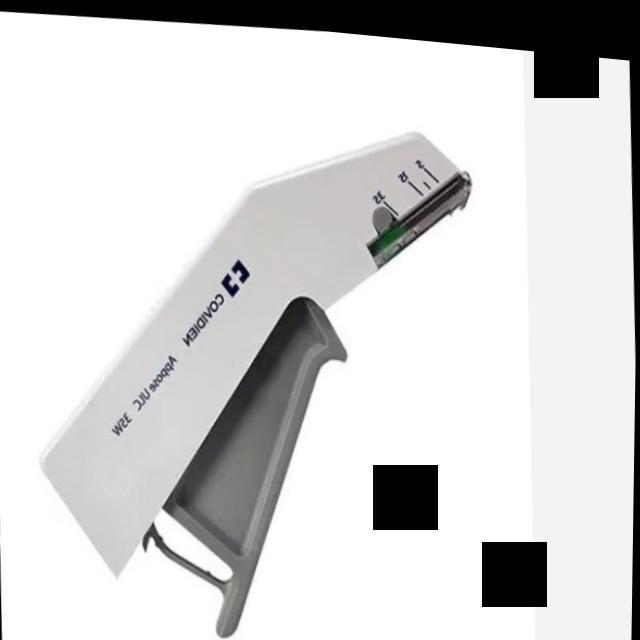Skin Stapler: (24, 89, 490, 640)
